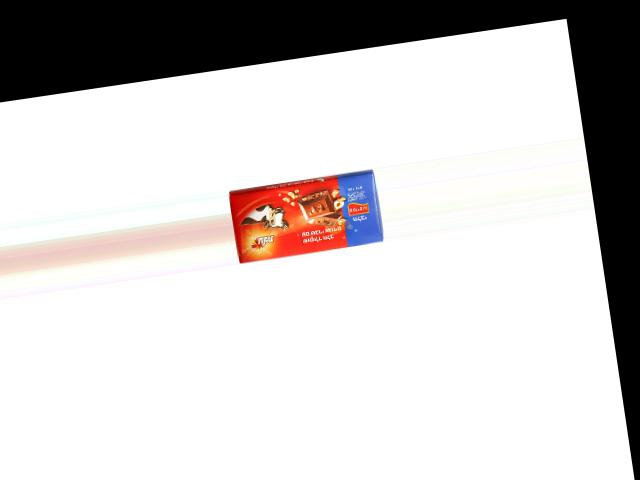chocolate: (227, 163, 382, 262)
